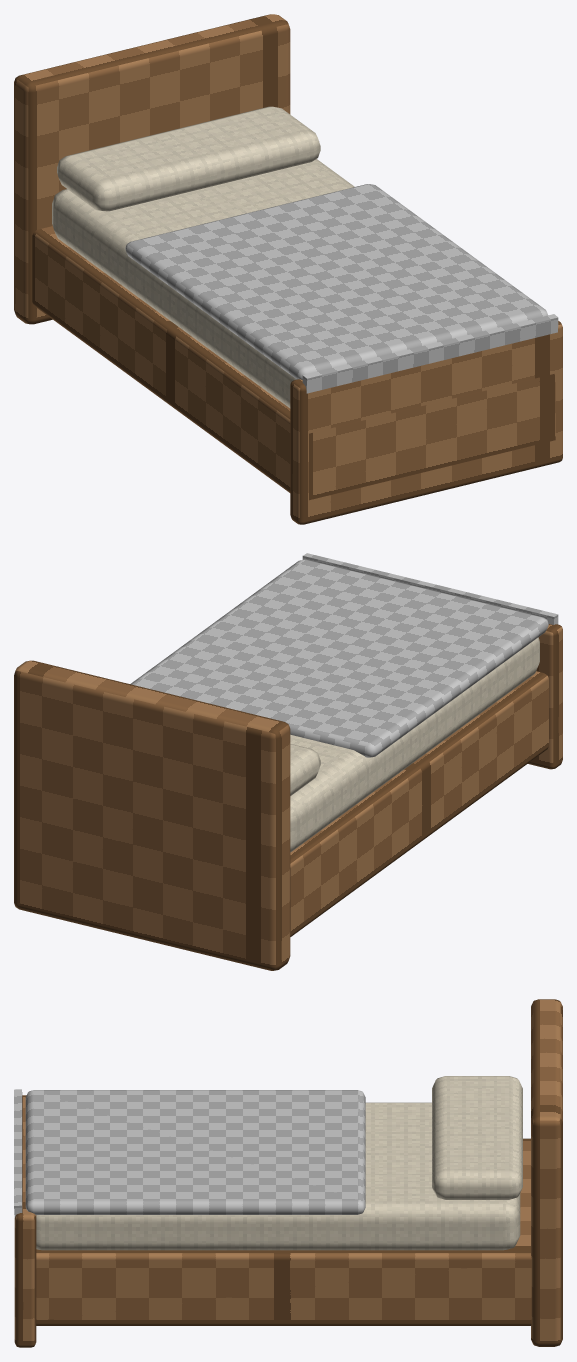
File: bed.glb
3 views of the same model, one above another, from view 1: azimuth 30°, elevation 25°; view 2: azimuth 150°, elevation 25°; view 3: azimuth 270°, elevation 25° (orthographic). The views are drawn at different scales.
Visible parts, largest first — view 1: dyn_wood_variant, dyn_velvet_variant, bed; view 2: dyn_wood_variant, dyn_velvet_variant, bed; view 3: dyn_wood_variant, dyn_velvet_variant, bed.
Part boxes in pixels (x1,y1,x2,y2): dyn_wood_variant: [14, 14, 562, 524]; dyn_velvet_variant: [125, 184, 558, 393]; bed: [52, 106, 354, 408]; dyn_wood_variant: [14, 624, 562, 970]; dyn_velvet_variant: [130, 553, 558, 757]; bed: [290, 637, 539, 852]; dyn_wood_variant: [14, 999, 562, 1347]; dyn_velvet_variant: [14, 1089, 365, 1217]; bed: [36, 1076, 522, 1250].
Size of the model in its own units: 1.09 by 0.9512 by 2.05.
Materials: 3 (3 with a texture image).
